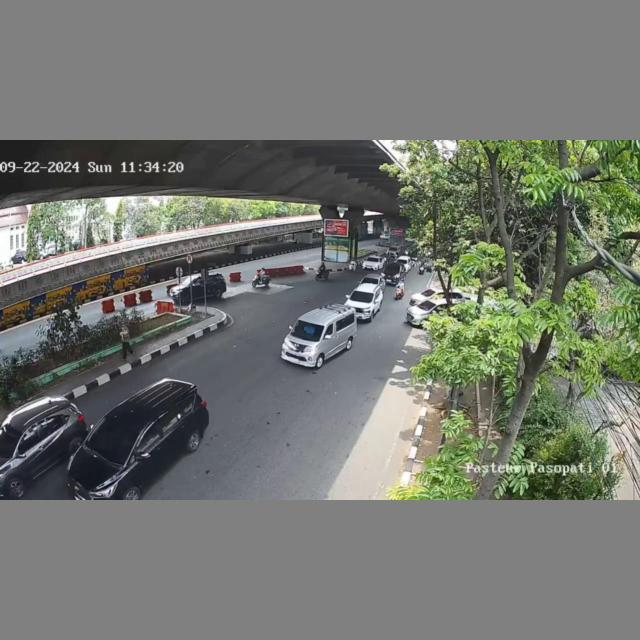windshield: (88, 417, 138, 460), (290, 319, 323, 342), (349, 292, 374, 304)
